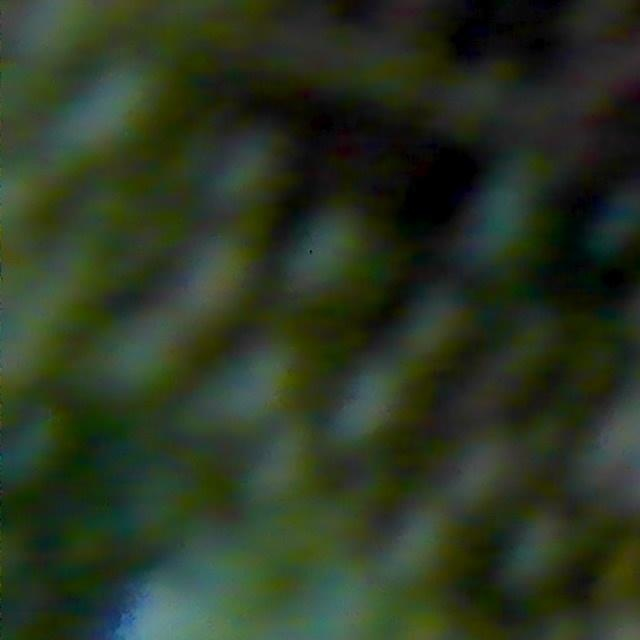SeaGrape: (207, 343, 300, 433), (94, 314, 186, 399), (290, 208, 372, 298), (178, 232, 258, 319), (465, 181, 543, 265), (499, 512, 575, 592), (335, 361, 409, 442)
